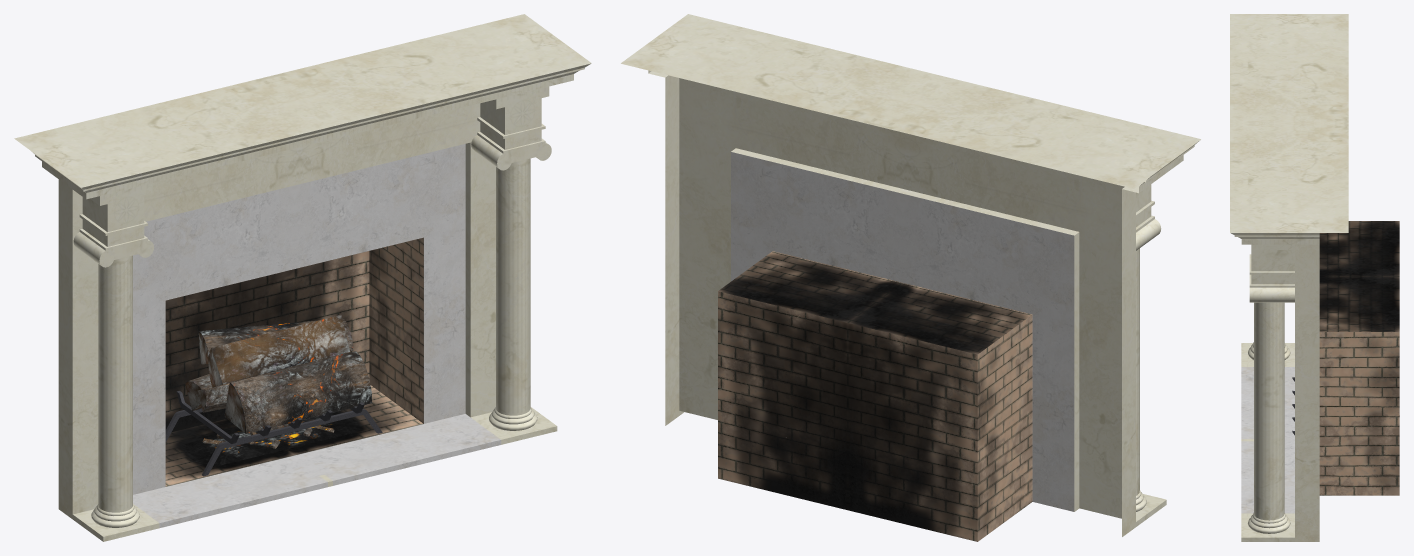
Rendered from Fireplace01.FBX.
3 renders of one model, left to right at view 1: azimuth 30°, elevation 25°; view 2: azimuth 150°, elevation 25°; view 3: azimuth 270°, elevation 25°, orthographic. The views are drawn at different scales.
Visible parts, largest first — view 1: Fireplace01; view 2: Fireplace01; view 3: Fireplace01.
Boxes of the visible parts, x1,y1,x2,y2 form: Fireplace01: (14,14,591,541); Fireplace01: (621,14,1200,541); Fireplace01: (1230,14,1399,541).
Bounding box in the file's own units: 2.13 × 1.46 × 0.6997.
